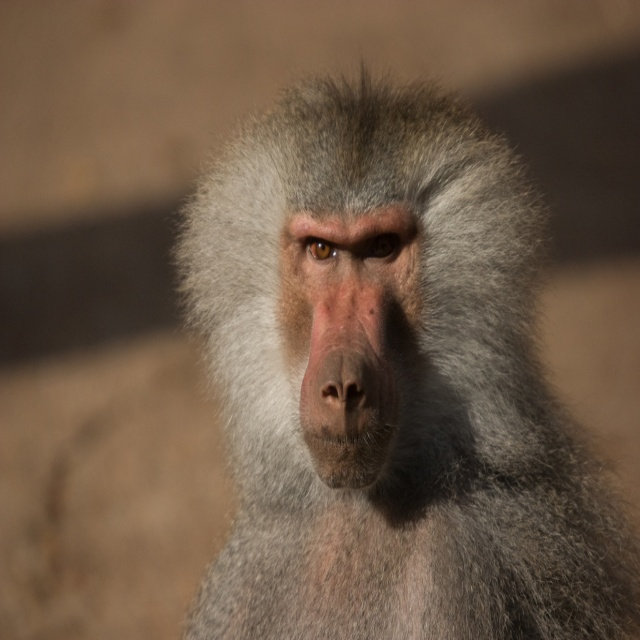Monkey: (156, 45, 629, 640)
